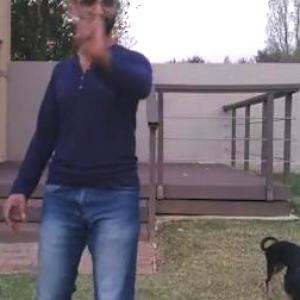takeoff-hand: (75, 2, 120, 55)
